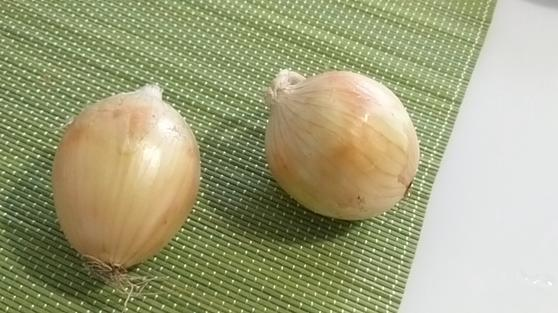onion: (51, 83, 202, 274), (261, 68, 421, 219)
